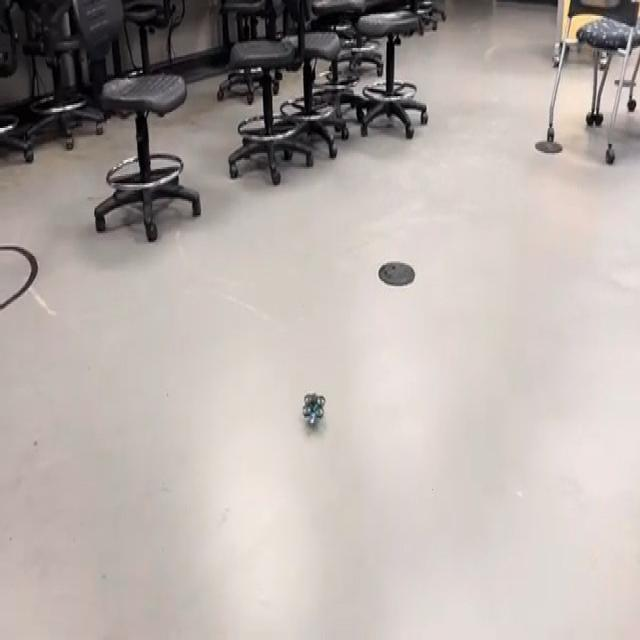drone: (294, 380, 332, 440)
